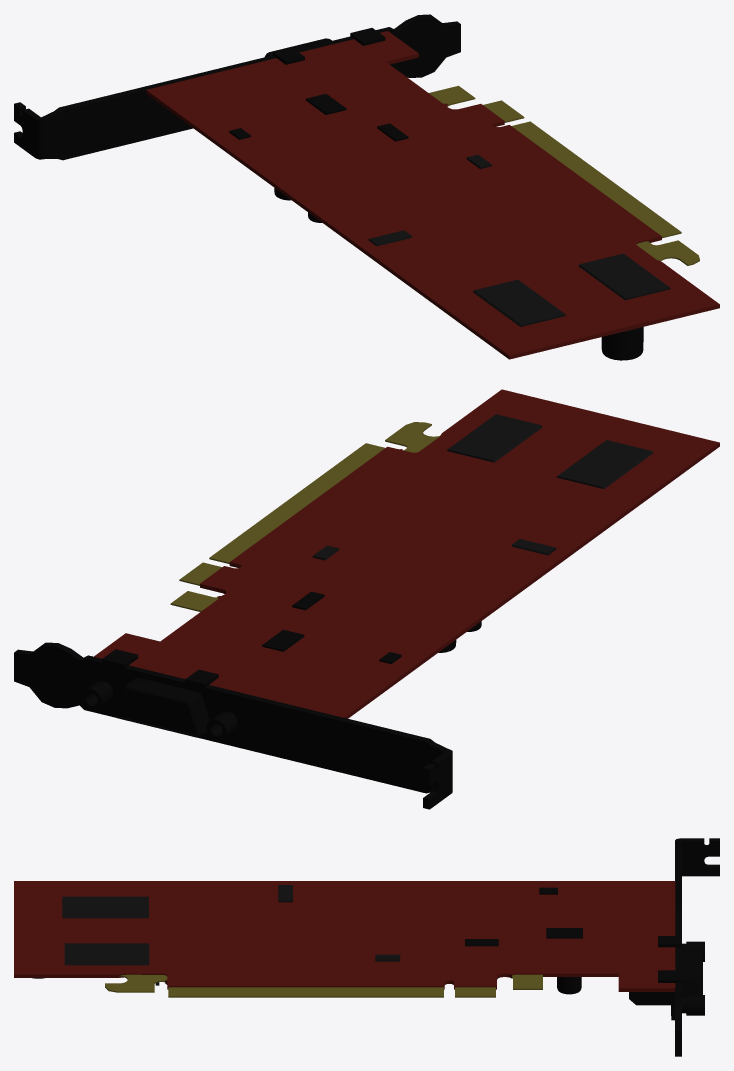
File: Video_Adapter.fbx
3 renders of one model, top to bottom at view 1: azimuth 30°, elevation 25°; view 2: azimuth 150°, elevation 25°; view 3: azimuth 270°, elevation 25°, orthographic. The views are drawn at different scales.
Parts seen in each view (by area): view 1: VIDEO_ADAPTER438; view 2: VIDEO_ADAPTER438; view 3: VIDEO_ADAPTER438.
Boxes of the visible parts, x1,y1,x2,y2 form: VIDEO_ADAPTER438: [14, 14, 719, 360]; VIDEO_ADAPTER438: [14, 389, 719, 809]; VIDEO_ADAPTER438: [14, 838, 719, 1056].
Size of the model in its own units: 97.53 by 13.16 by 155.
